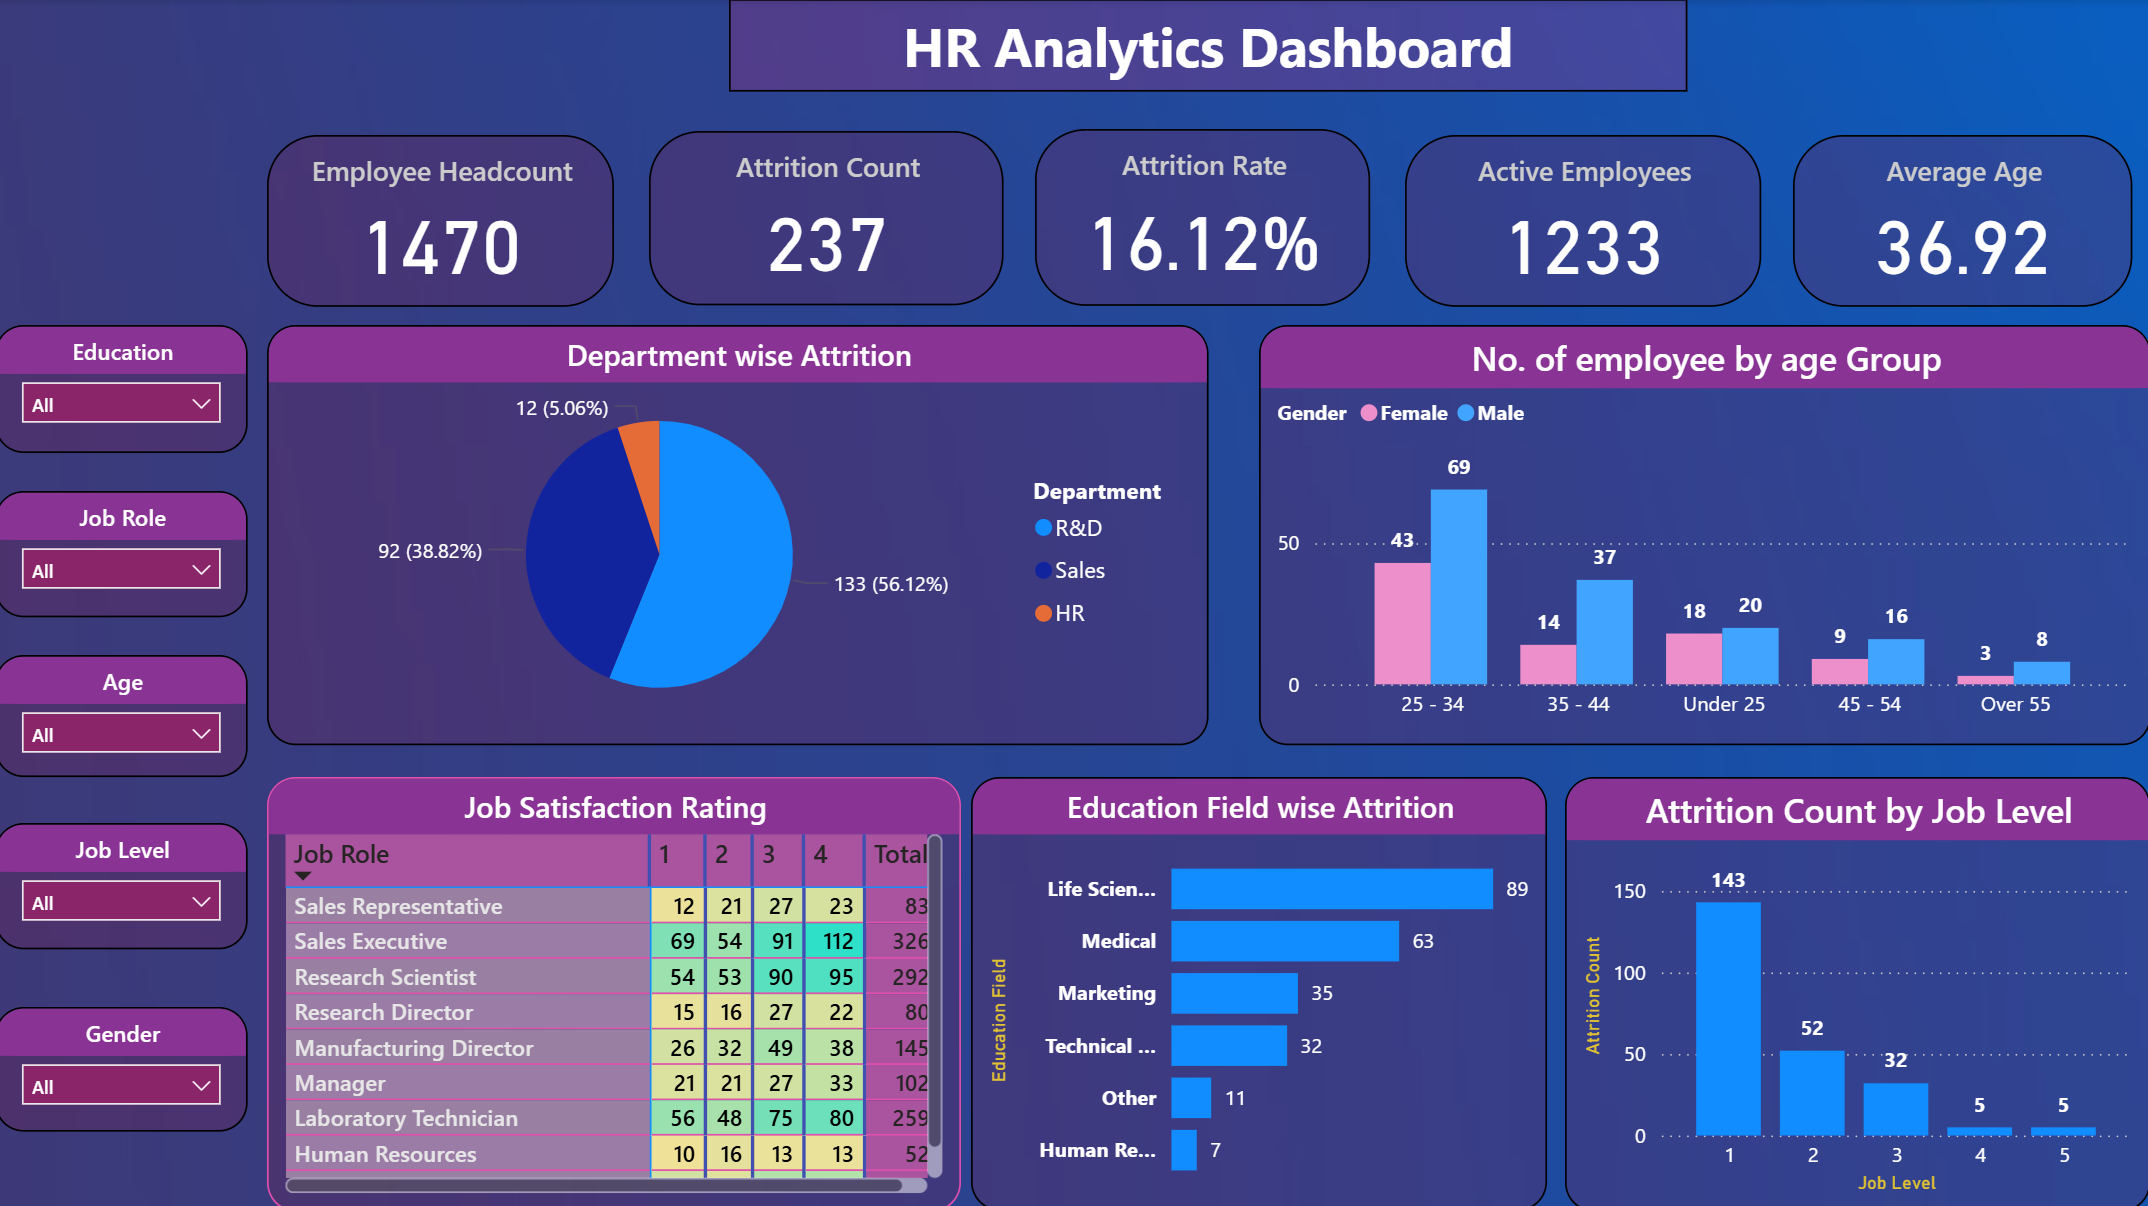

Layout of this report page (visuals, bound fields, positions):
{"tool":"powerbi","page":{"name":"Page 1","canvas":[1280,720],"ordinal":0},"visuals":[{"type":"card","title":"Employee Headcount","fields":{"Values":["HR data.Total Employees"]},"box":[161.3,80.3,206.1,101.9],"z":0},{"type":"textbox","box":[436.2,0,568.9,54.8],"z":1000},{"type":"card","title":"Attrition Count","fields":{"Values":["HR data.Attrition Count"]},"box":[388.3,78.7,210.7,103.4],"z":2000},{"type":"card","title":"Attrition Rate","fields":{"Values":["HR data.Attrition Rate"]},"box":[617.6,77.2,199.2,105],"z":3000},{"type":"card","title":"Active Employees","fields":{"Values":["HR data.Active Employees"]},"box":[837.6,80.3,211.5,101.9],"z":4000},{"type":"card","title":"Average Age","fields":{"Values":["HR data.Average Age"]},"box":[1067.6,80.3,201.5,101.9],"z":5000},{"type":"pieChart","title":"Department wise Attrition","fields":{"Category":["HR data.Department"],"Y":["HR data.Attrition Count"]},"box":[161.3,193.8,558.9,249.3],"z":6000},{"type":"clusteredColumnChart","title":"No. of employee by age Group ","fields":{"Category":["HR data.CF_age band"],"Y":["HR data.Attrition Count"],"Series":["HR data.Gender"]},"box":[750.3,193.8,529.6,249.3],"z":7000},{"type":"pivotTable","title":"Job Satisfaction Rating ","fields":{"Rows":["HR data.Job Role"],"Columns":["HR data.Job Satisfaction"],"Values":["Sum(HR data.Employee Count)"]},"box":[161.3,461.6,412.2,257.8],"z":8000},{"type":"barChart","title":"Education Field wise Attrition","fields":{"Category":["HR data.Education Field"],"Y":["HR data.Attrition Count"]},"box":[579.2,462,342.2,257.7],"z":9000},{"type":"slicer","title":"Education ","fields":{"Values":["HR data.Education","HR data.Job Role"]},"box":[0,193.9,150,75.8],"z":10000},{"type":"clusteredColumnChart","fields":{"Category":["HR data.Job Level"],"Y":["HR data.Attrition Count"]},"box":[932.5,461.6,347.4,257.8],"z":11000},{"type":"slicer","title":"Job Role","fields":{"Values":["HR data.Job Role"]},"box":[0,292.2,150,75],"z":11001},{"type":"slicer","title":"Age","fields":{"Values":["HR data.CF_age band"]},"box":[0,389.6,150,72.4],"z":11002},{"type":"slicer","title":"Job Level","fields":{"Values":["HR data.Job Level"]},"box":[0,488.7,150,75],"z":11003},{"type":"slicer","title":"Gender","fields":{"Values":["HR data.Gender"]},"box":[0,598.1,150,74.1],"z":11004}]}

Visuals, with their boxes in screenshot pixels (x1, y1, x2, y2), scaled from the page's 1280x720 canvas onto the 2148x1206 screenshot:
"Employee Headcount" card: <bbox>271, 135, 617, 305</bbox>
textbox: <bbox>732, 0, 1687, 92</bbox>
"Attrition Count" card: <bbox>652, 132, 1005, 305</bbox>
"Attrition Rate" card: <bbox>1036, 129, 1371, 305</bbox>
"Active Employees" card: <bbox>1406, 135, 1761, 305</bbox>
"Average Age" card: <bbox>1792, 135, 2130, 305</bbox>
"Department wise Attrition" pieChart: <bbox>271, 325, 1209, 742</bbox>
"No. of employee by age Group " clusteredColumnChart: <bbox>1259, 325, 2147, 742</bbox>
"Job Satisfaction Rating " pivotTable: <bbox>271, 773, 962, 1205</bbox>
"Education Field wise Attrition" barChart: <bbox>972, 774, 1546, 1205</bbox>
"Education " slicer: <bbox>0, 325, 252, 452</bbox>
clusteredColumnChart - HR data.Job Level x HR data.Attrition Count: <bbox>1565, 773, 2147, 1205</bbox>
"Job Role" slicer: <bbox>0, 489, 252, 615</bbox>
"Age" slicer: <bbox>0, 653, 252, 774</bbox>
"Job Level" slicer: <bbox>0, 819, 252, 944</bbox>
"Gender" slicer: <bbox>0, 1002, 252, 1126</bbox>
